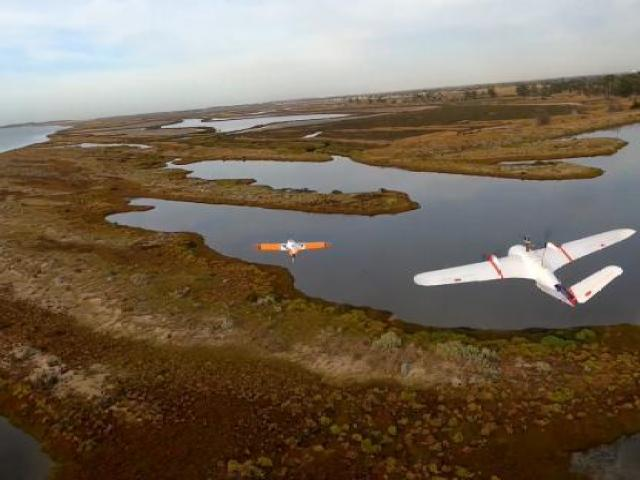uav: (410, 225, 639, 308), (248, 235, 329, 259)
